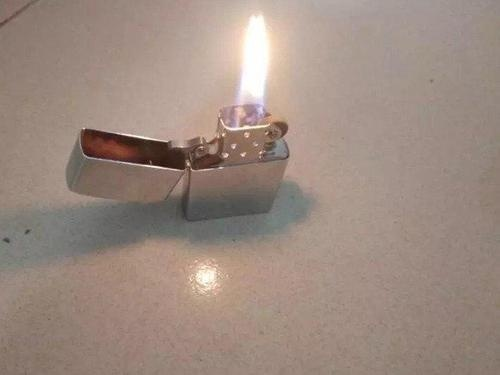fire: (237, 10, 271, 112), (185, 255, 224, 299)
